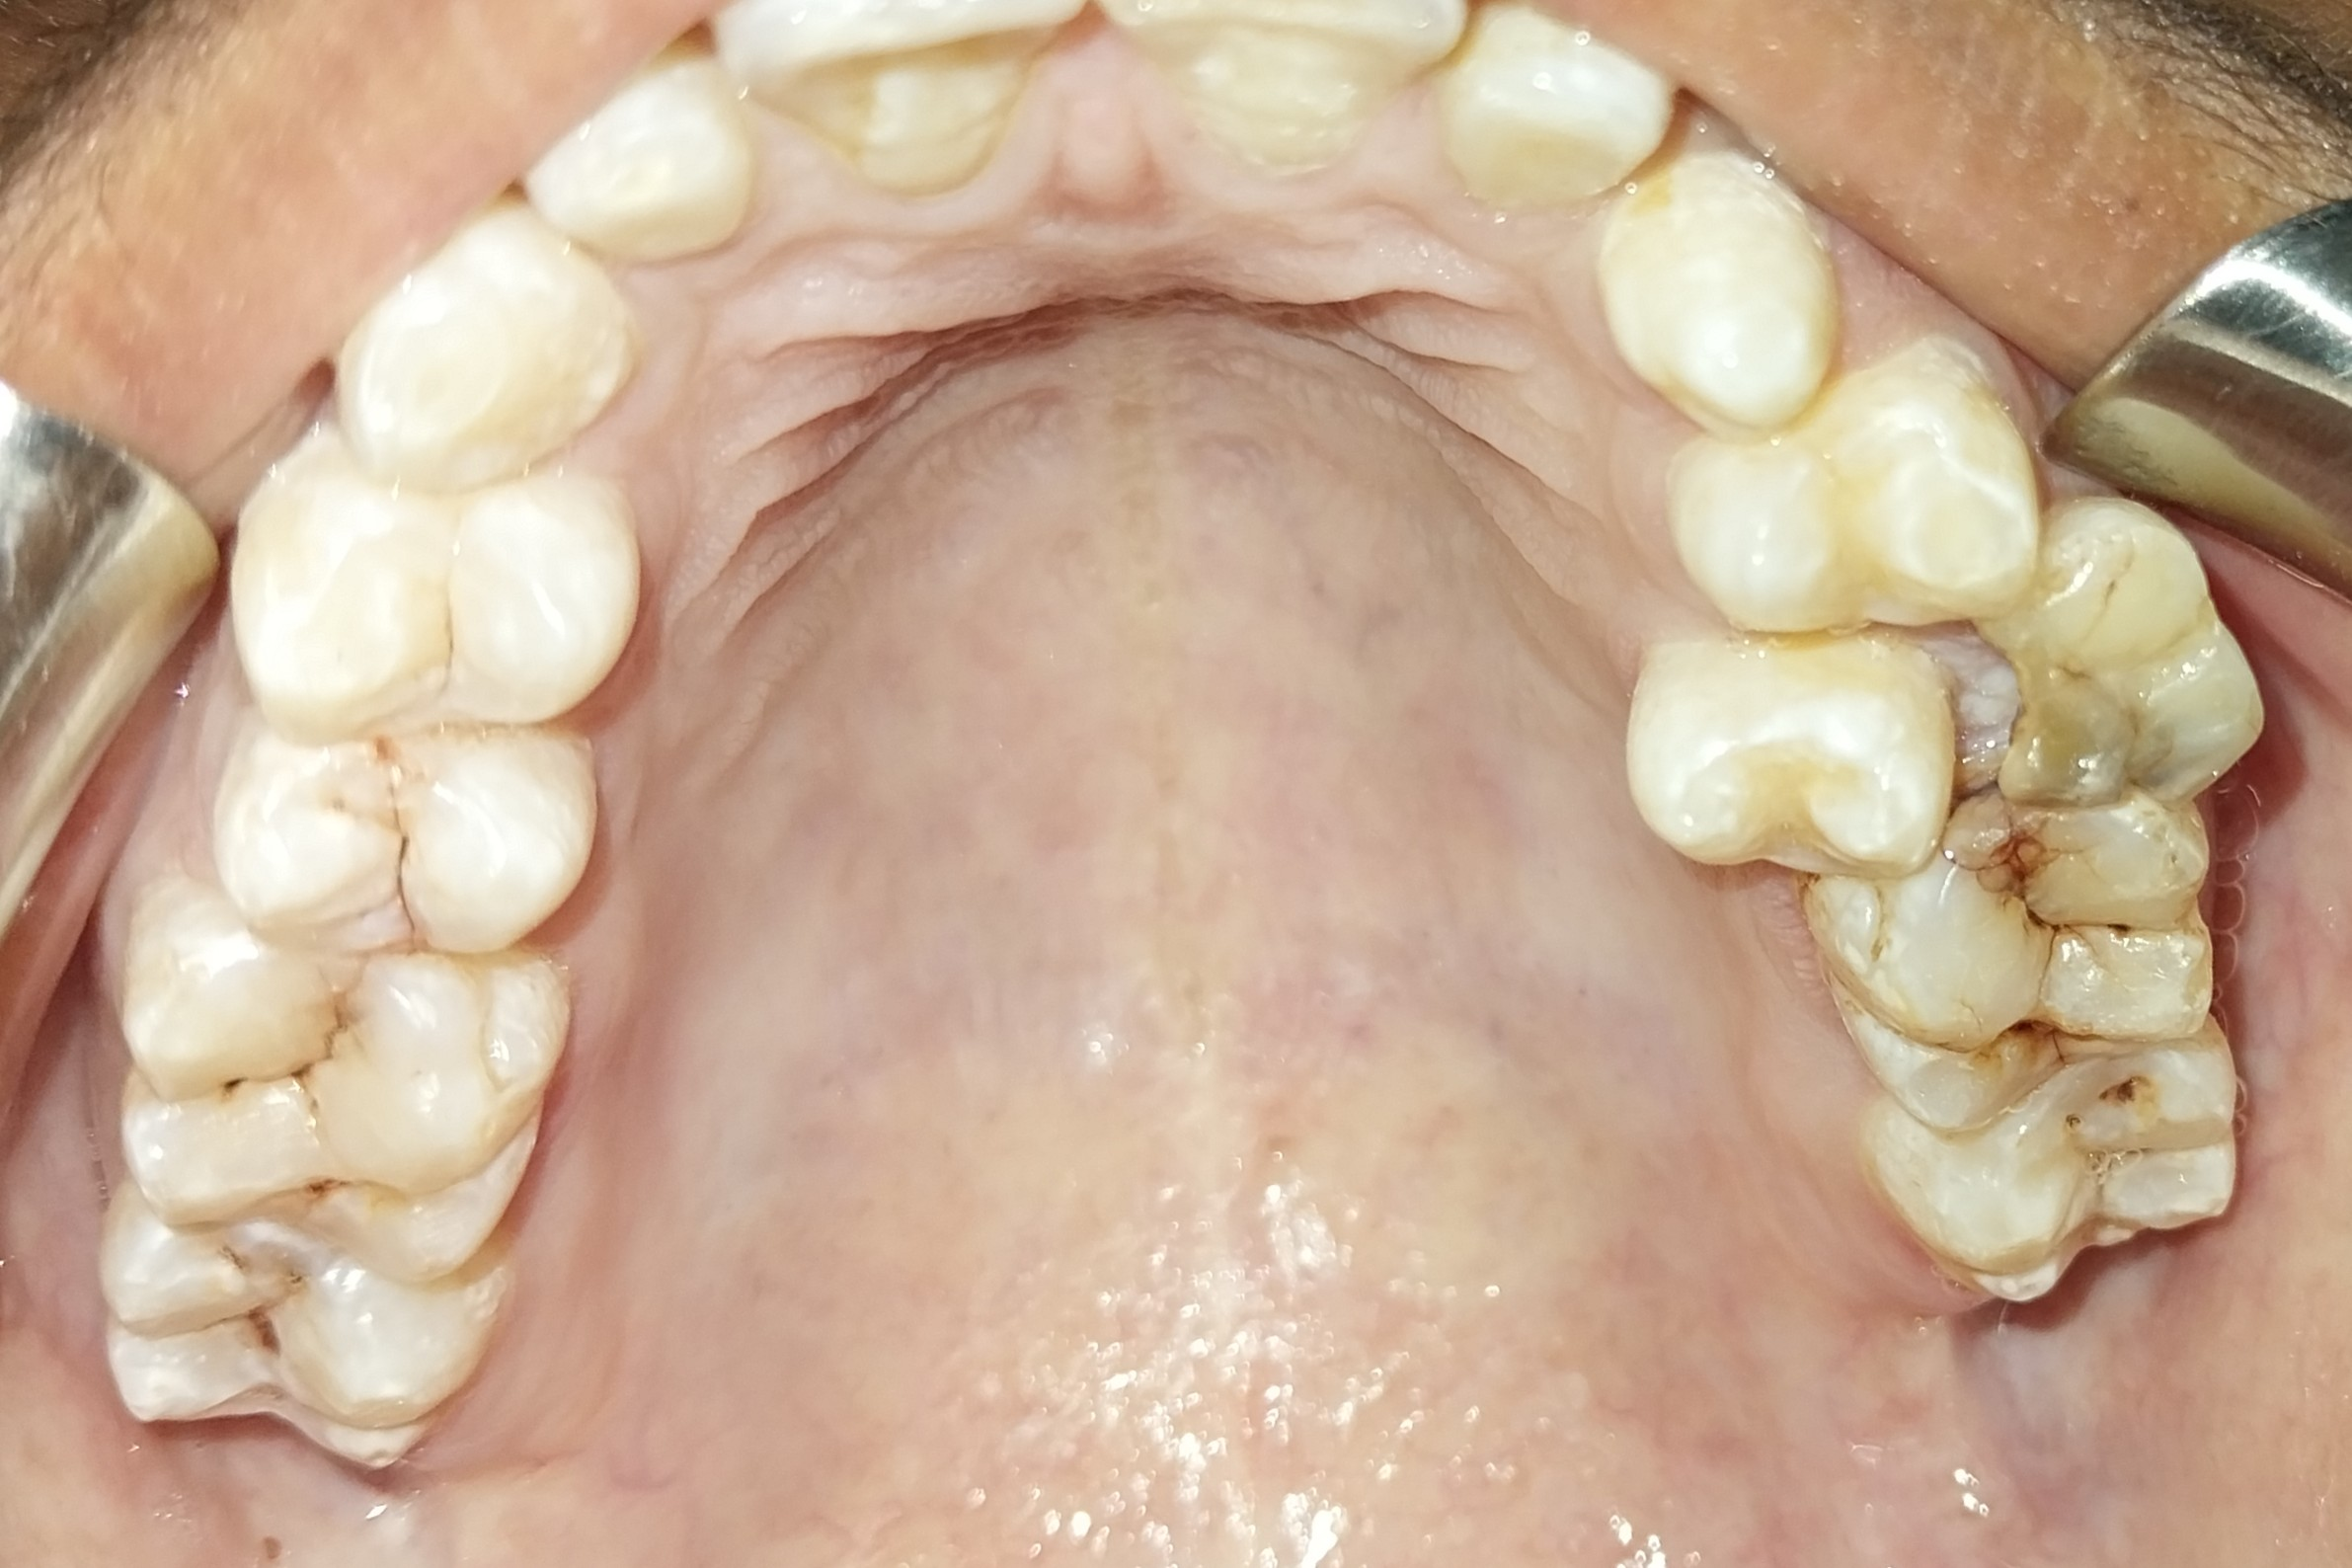D: (114, 901, 572, 1266), (1813, 800, 2215, 1130), (97, 1192, 509, 1471), (1876, 1041, 2245, 1303), (214, 732, 599, 963)
d: (1960, 495, 2265, 806)
